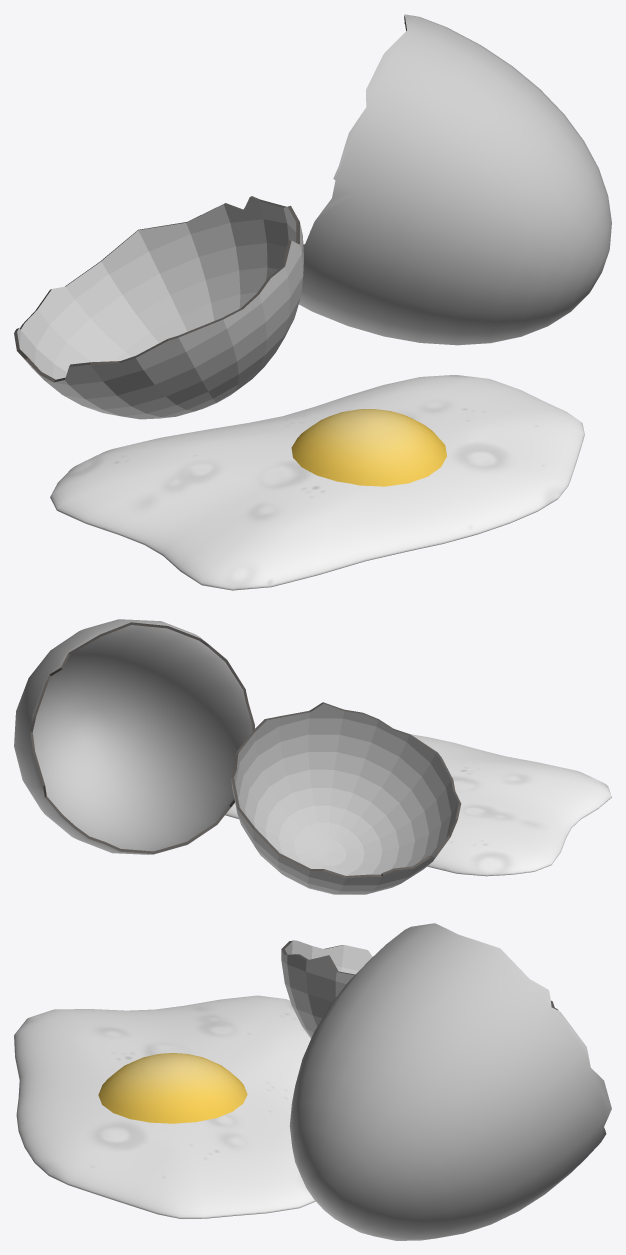
The model's file is Cracked Egg.fbx.
The picture shows the model from 3 angles, top to bottom: view 1: azimuth 30°, elevation 25°; view 2: azimuth 150°, elevation 25°; view 3: azimuth 270°, elevation 25°; orthographic projection. The views are drawn at different scales.
Visible parts, largest first — view 1: polySurface2, pSphere4, polySurface1, pSphere3; view 2: polySurface2, polySurface1, pSphere4; view 3: polySurface2, pSphere4, pSphere3, polySurface1.
Boxes of the visible parts, <box> form: polySurface2: <box>299,14,611,345</box>; pSphere4: <box>50,375,584,590</box>; polySurface1: <box>14,196,303,419</box>; pSphere3: <box>291,409,446,486</box>; polySurface2: <box>14,619,254,854</box>; polySurface1: <box>231,702,461,894</box>; pSphere4: <box>225,734,611,876</box>; polySurface2: <box>289,923,611,1240</box>; pSphere4: <box>14,995,315,1218</box>; pSphere3: <box>98,1053,247,1123</box>; polySurface1: <box>281,940,558,1038</box>.
Size of the model in its own units: 10.06 by 4.67 by 9.08.
